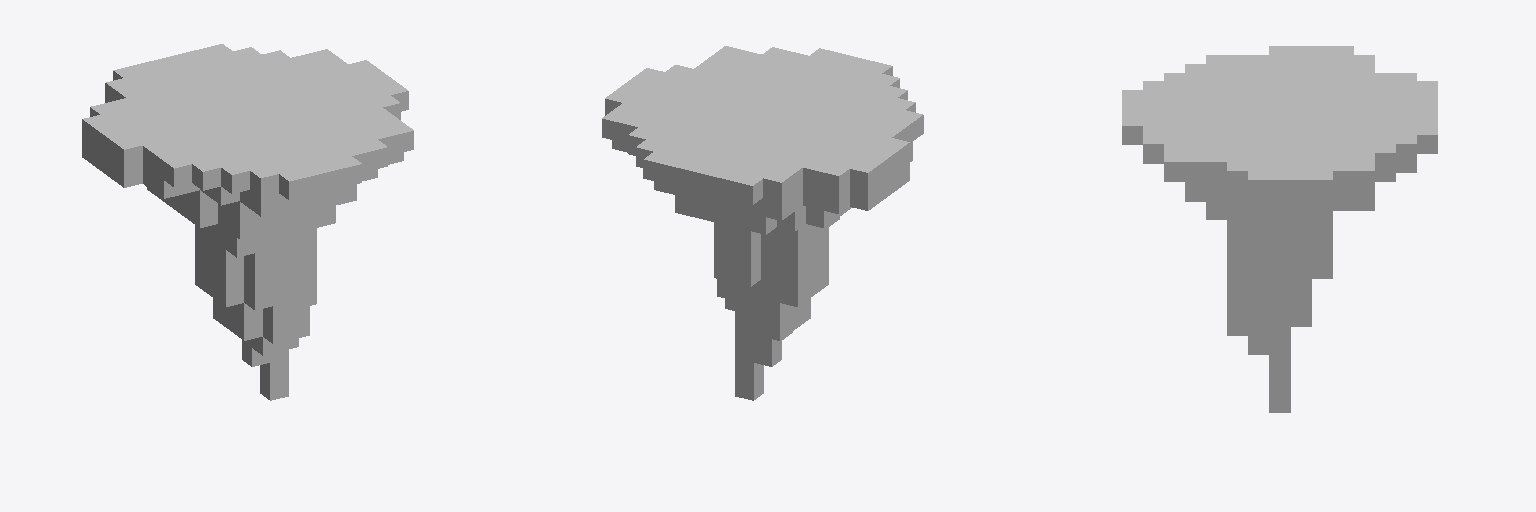
Rendered from vox_island.obj.
3 views of the same model, side by side, from view 1: azimuth 30°, elevation 25°; view 2: azimuth 150°, elevation 25°; view 3: azimuth 270°, elevation 25° (orthographic).
Visible parts, largest first — view 1: object 1; view 2: object 1; view 3: object 1.
Boxes of the visible parts, x1,y1,x2,y2 form: object 1: [82, 44, 413, 400]; object 1: [602, 46, 923, 400]; object 1: [1122, 46, 1437, 412].
Size of the model in its own units: 1.5 by 1.5 by 1.5.